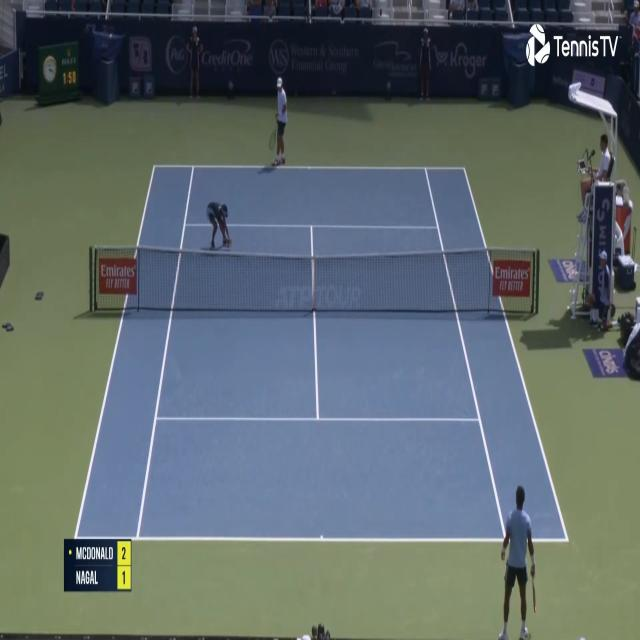tennis-player: (498, 481, 539, 640), (268, 75, 290, 167)
